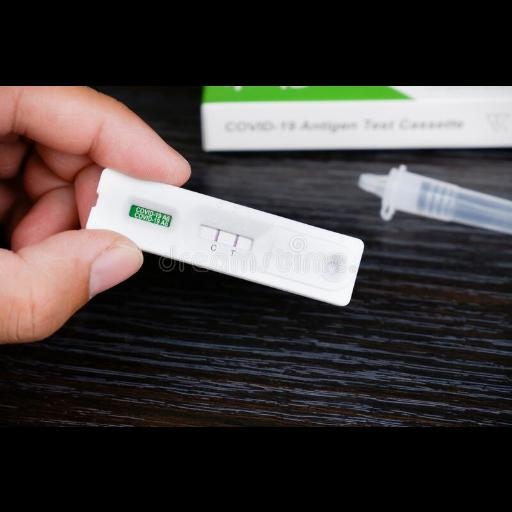Pos: (84, 167, 368, 309)
